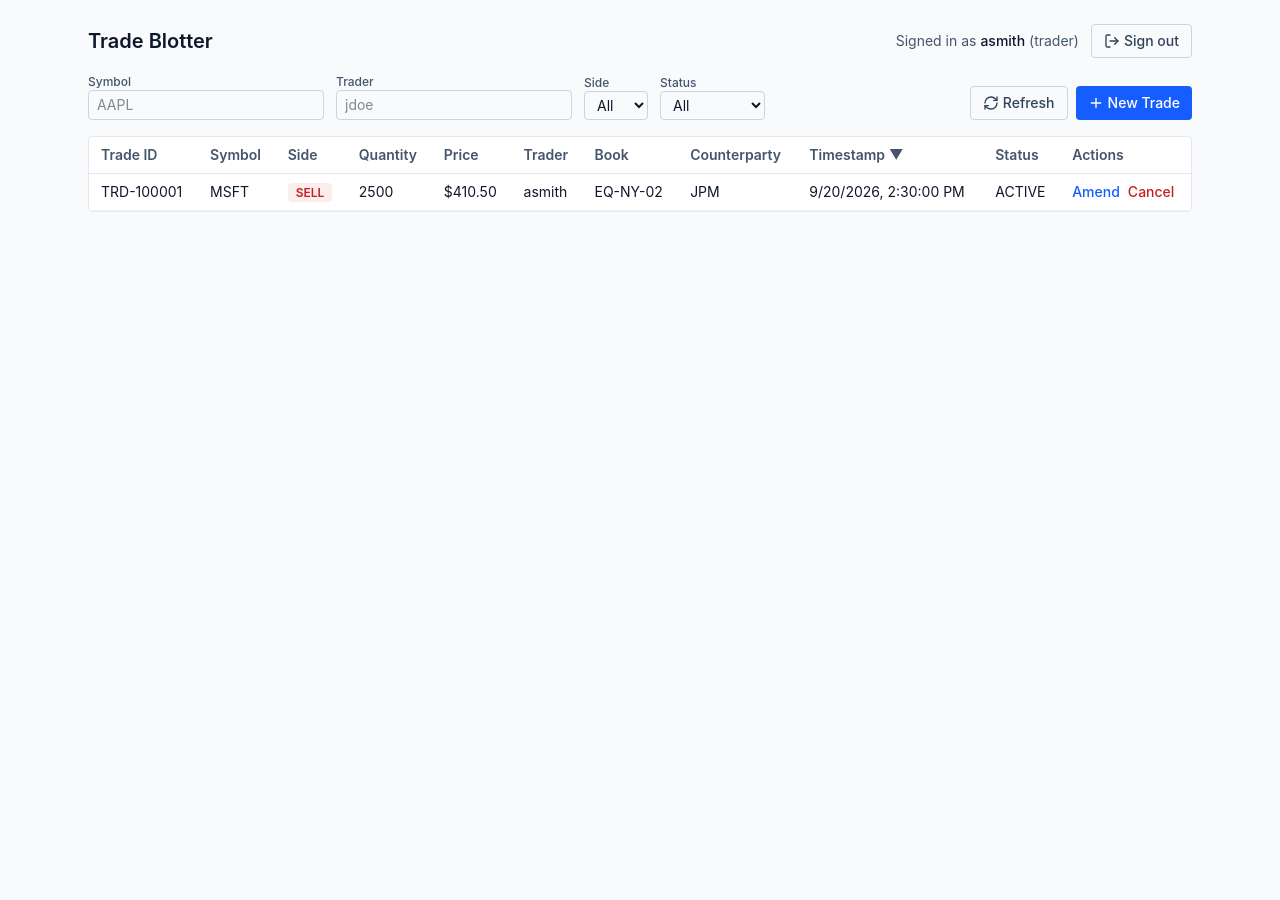
Test: TradeBlotterPage create/amend wiring › toasts a failed amend and keeps the modal open with the edit
The width and height of the screenshot is (1280, 900).
Click the button "Amend".
click(1096, 192)  # box [1072,182,1120,202]
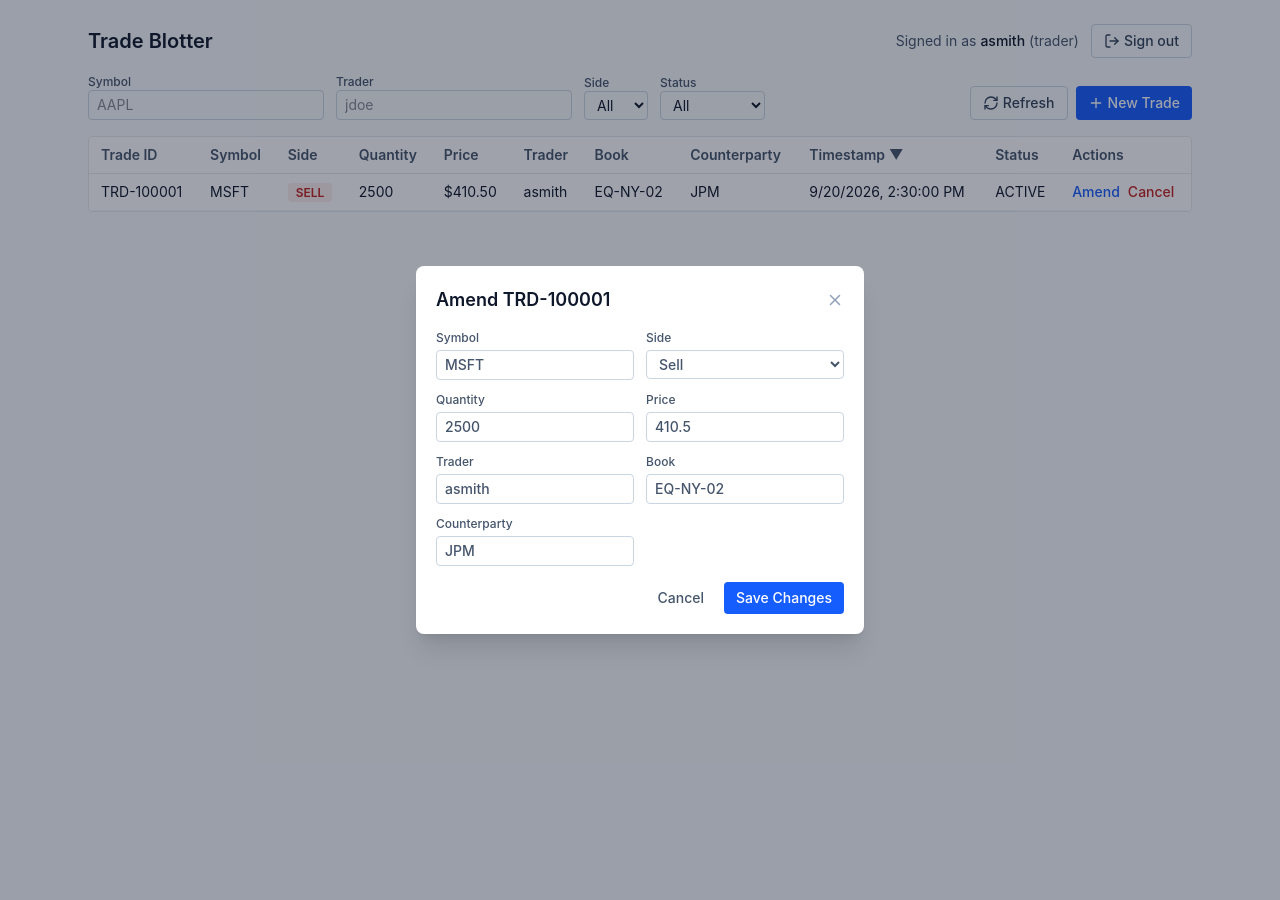
Replace the text in the number field labelled "Price" with "411.25" at (745, 427), box [646,412,844,442]
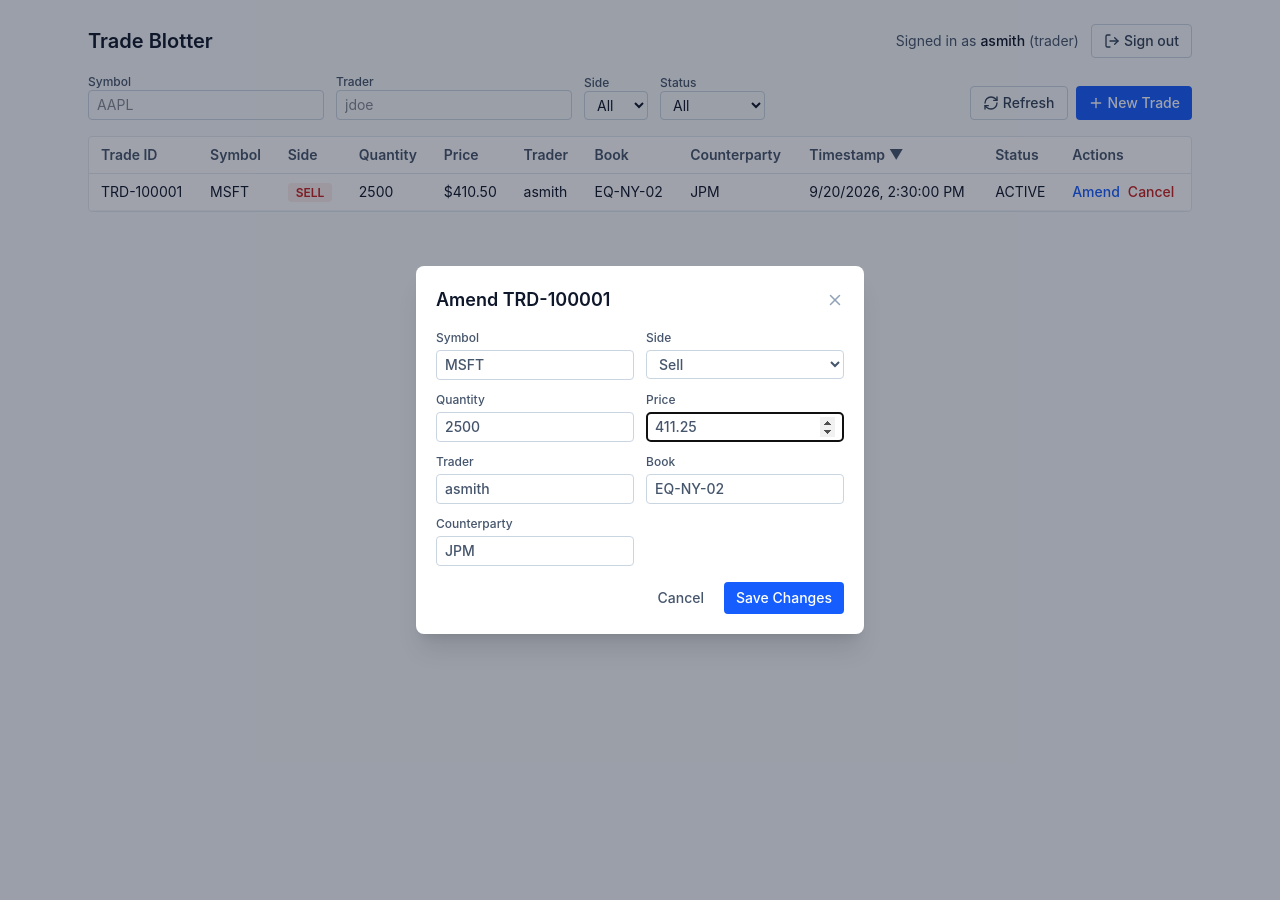
Click the button "Save Changes".
click(784, 598)  # box [724,582,844,614]
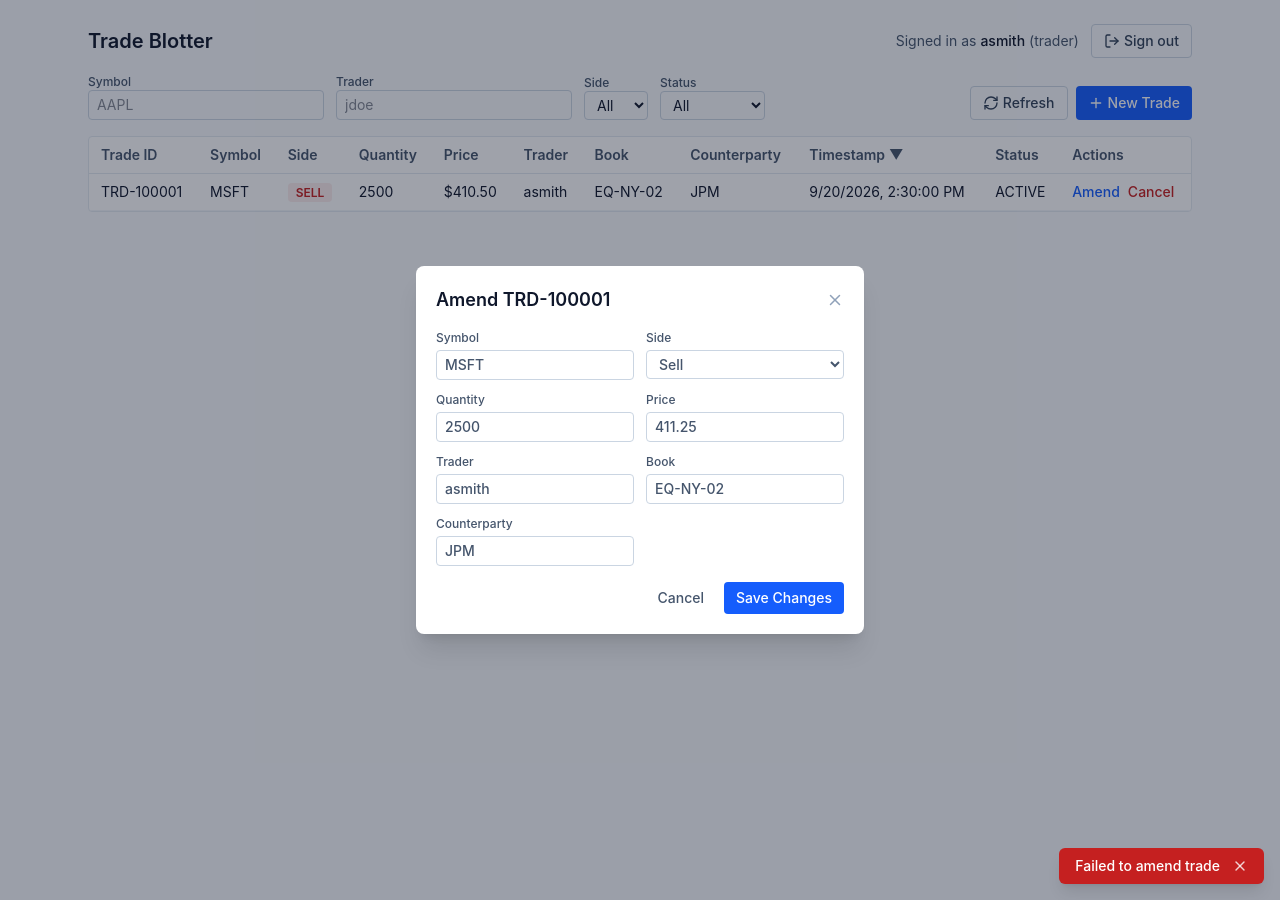
Check: the dialog "Amend TRD-100001" is shown, box [416,266,864,634]
Check: the text "Failed to amend trade" is shown, box [1075,856,1220,876]
